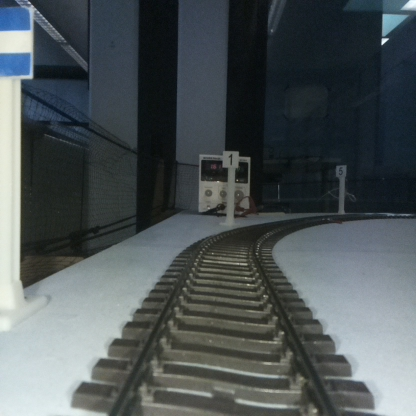start: (0, 7, 32, 321)
white-info-1: (223, 151, 239, 222)
white-info-5: (336, 163, 346, 214)
